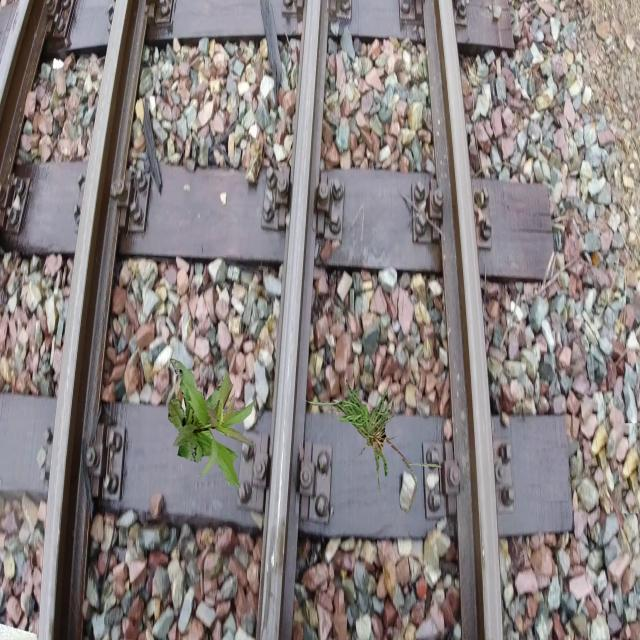Plant: (298, 379, 442, 498), (168, 359, 256, 489)
